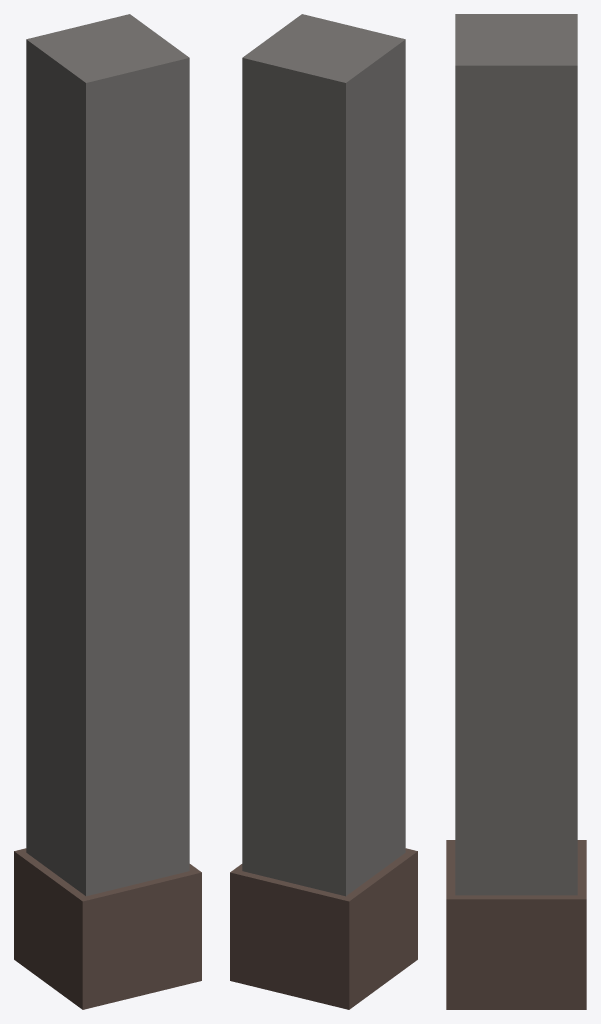
Rendered from B_k_column.glb.
3 renders of one model, left to right at view 1: azimuth 30°, elevation 25°; view 2: azimuth 150°, elevation 25°; view 3: azimuth 270°, elevation 25°, orthographic. The views are drawn at different scales.
Parts seen in each view (by area): view 1: Cube, Cube.001; view 2: Cube, Cube.001; view 3: Cube, Cube.001.
Boxes of the visible parts, <box> form: Cube: <box>26,14,189,896</box>; Cube.001: <box>14,848,201,1009</box>; Cube: <box>242,14,405,896</box>; Cube.001: <box>230,848,417,1009</box>; Cube: <box>455,14,577,895</box>; Cube.001: <box>446,840,586,1009</box>.
Bounding box in the file's own units: 0.46 × 3.4 × 0.46.
